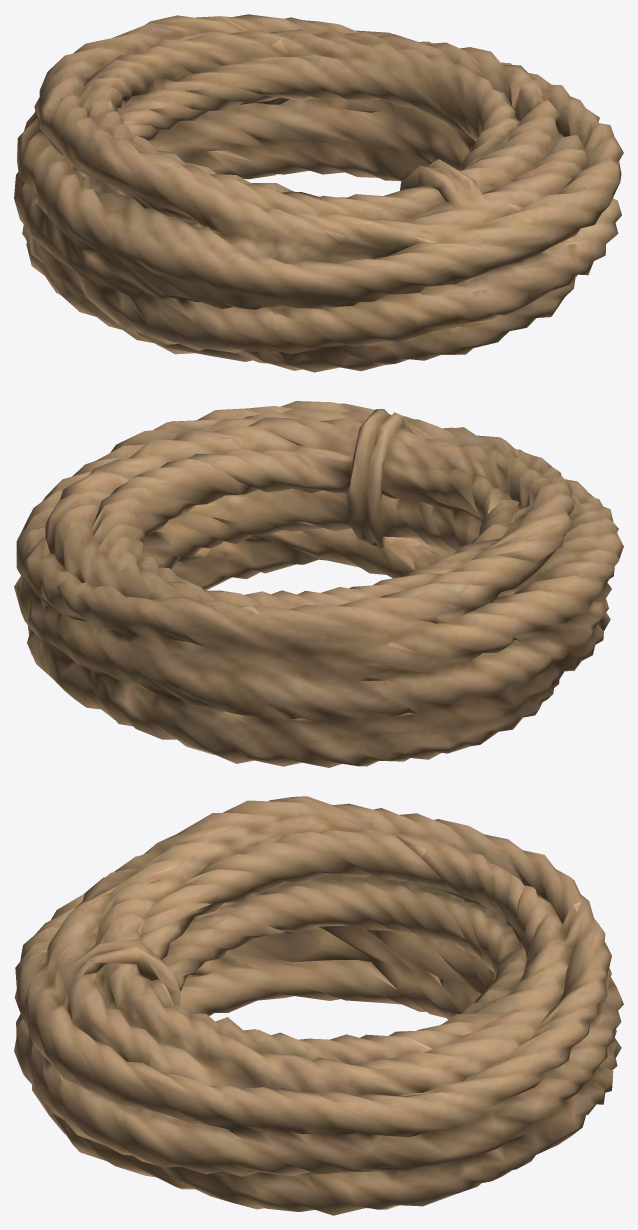
File: RopeCoil.glb
The picture shows the model from 3 angles, top to bottom: view 1: azimuth 30°, elevation 25°; view 2: azimuth 150°, elevation 25°; view 3: azimuth 270°, elevation 25°; orthographic projection. The views are drawn at different scales.
Parts seen in each view (by area): view 1: RopeCoil; view 2: RopeCoil; view 3: RopeCoil.
Part boxes in pixels (x1,y1,x2,y2): RopeCoil: (14, 14, 623, 372); RopeCoil: (14, 401, 623, 767); RopeCoil: (14, 796, 623, 1215).
Bounding box in the file's own units: 0.7218 × 0.2593 × 0.7042.
Materials: 1 (1 with a texture image).
